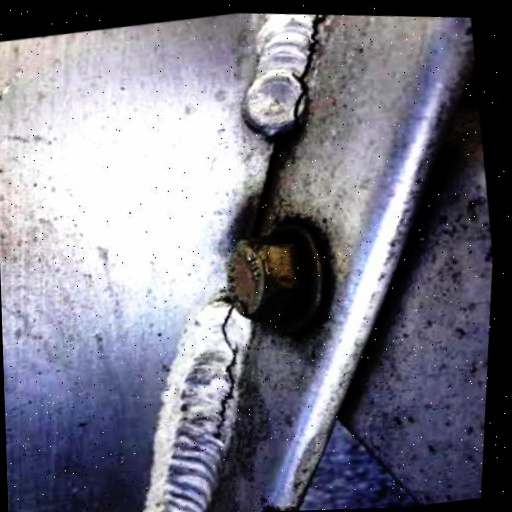crack: (178, 297, 269, 461), (270, 12, 359, 147)
